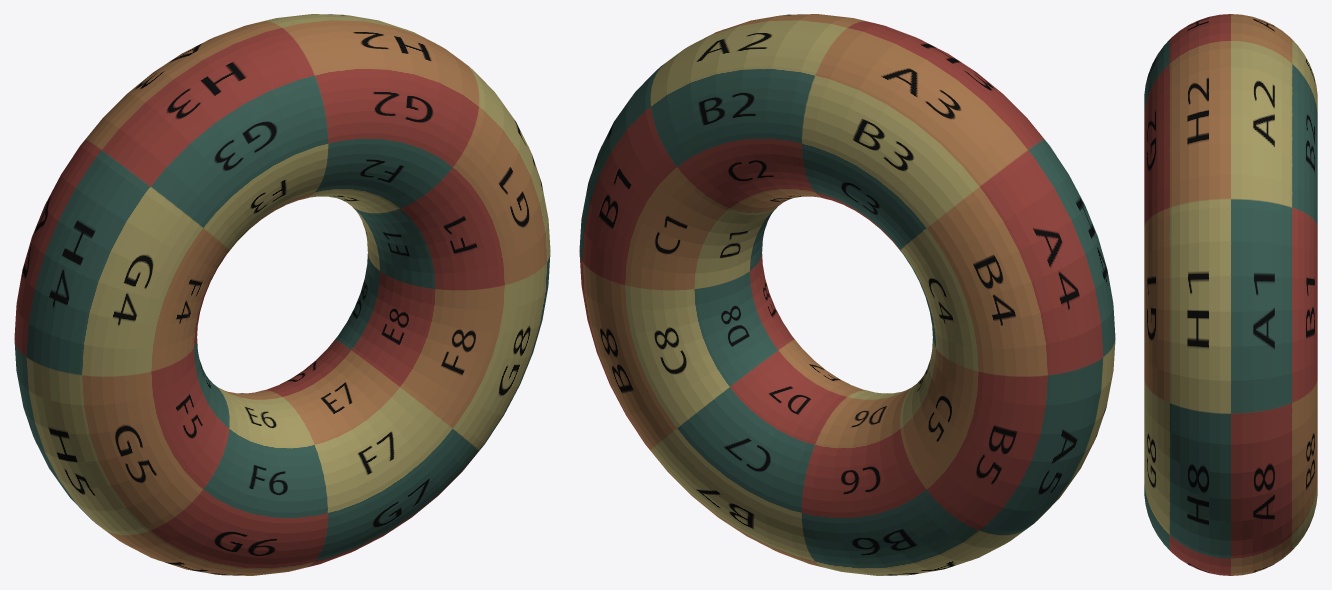
Rendered from texture_torus_R6_r16.glb.
3 renders of one model, left to right at view 1: azimuth 30°, elevation 25°; view 2: azimuth 150°, elevation 25°; view 3: azimuth 270°, elevation 25°, orthographic. The views are drawn at different scales.
Visible parts, largest first — view 1: world; view 2: world; view 3: world.
Boxes of the visible parts, x1,y1,x2,y2 form: world: (14,14,550,575); world: (579,14,1115,575); world: (1144,14,1317,575).
Bounding box in the file's own units: 20.27 × 20.23 × 6.25.
1 material, 1 textured.
